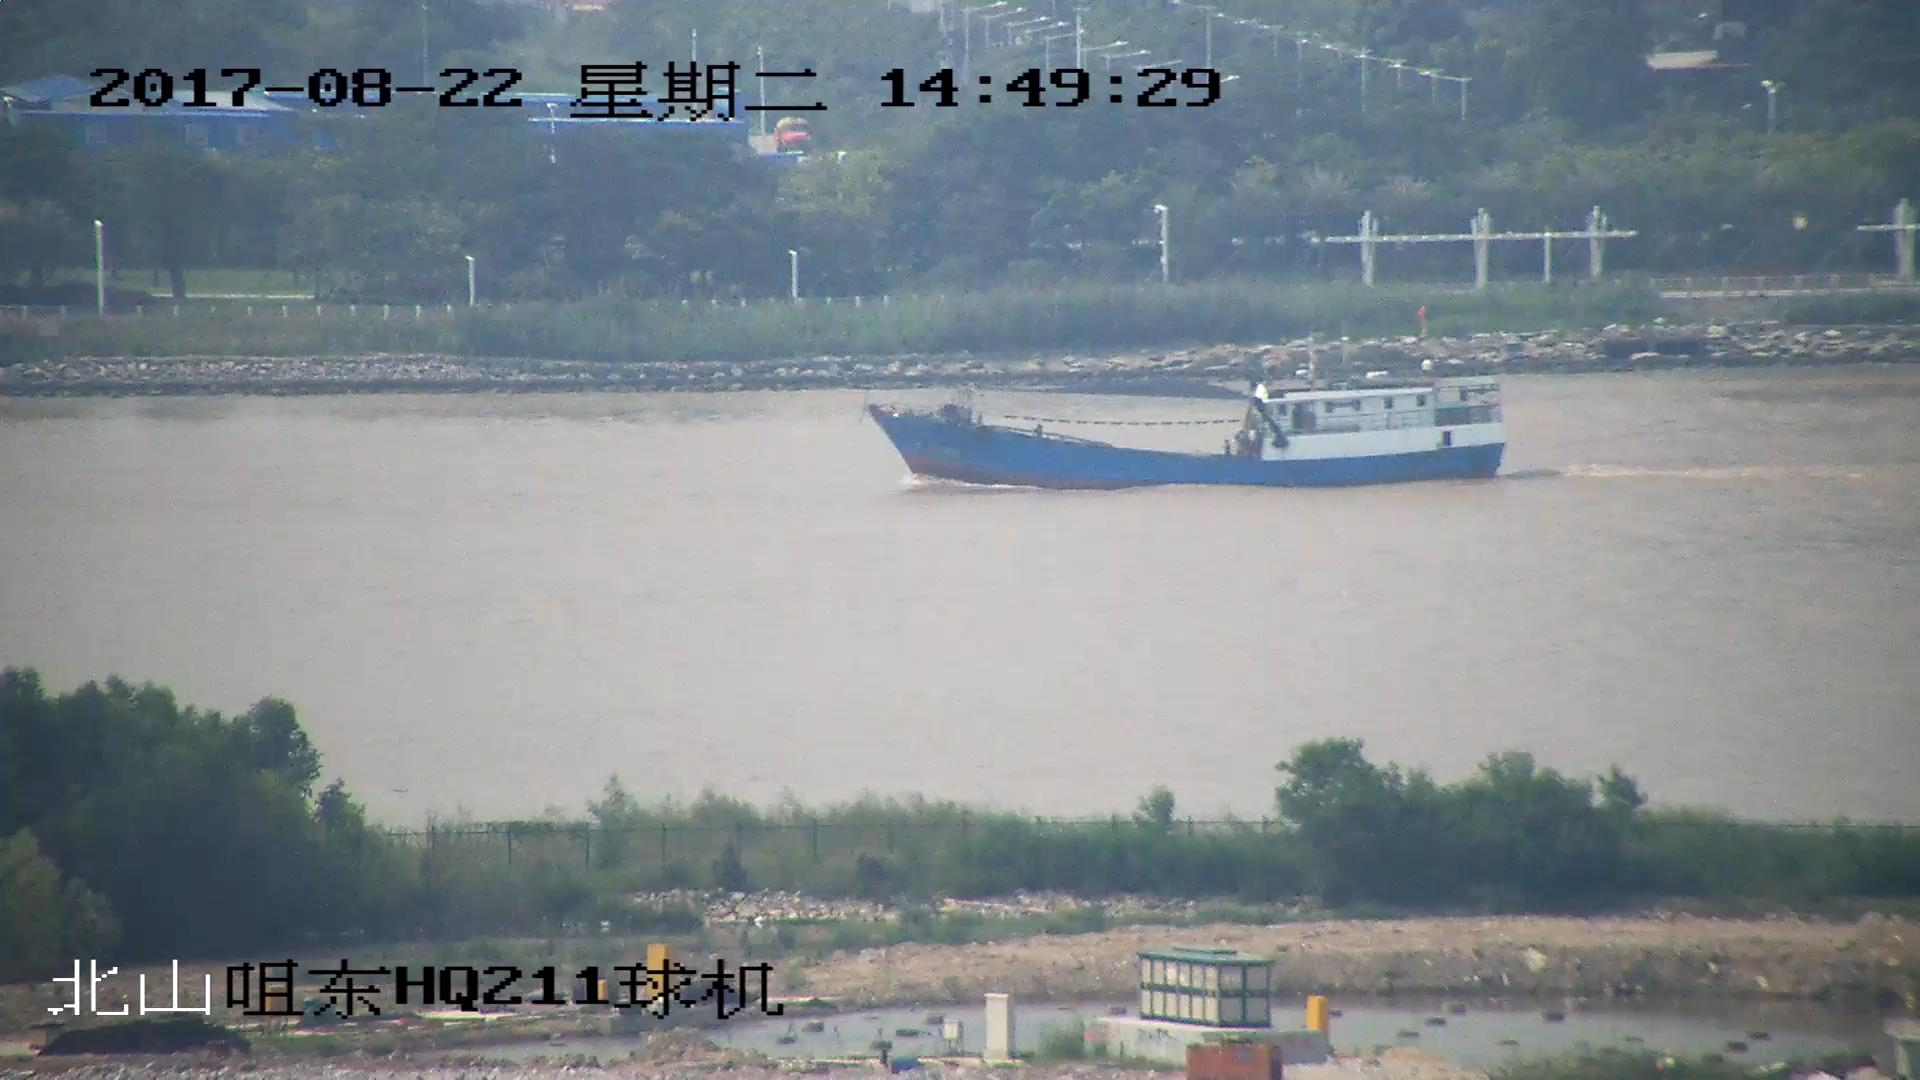fishing boat: (871, 338, 1513, 488)
